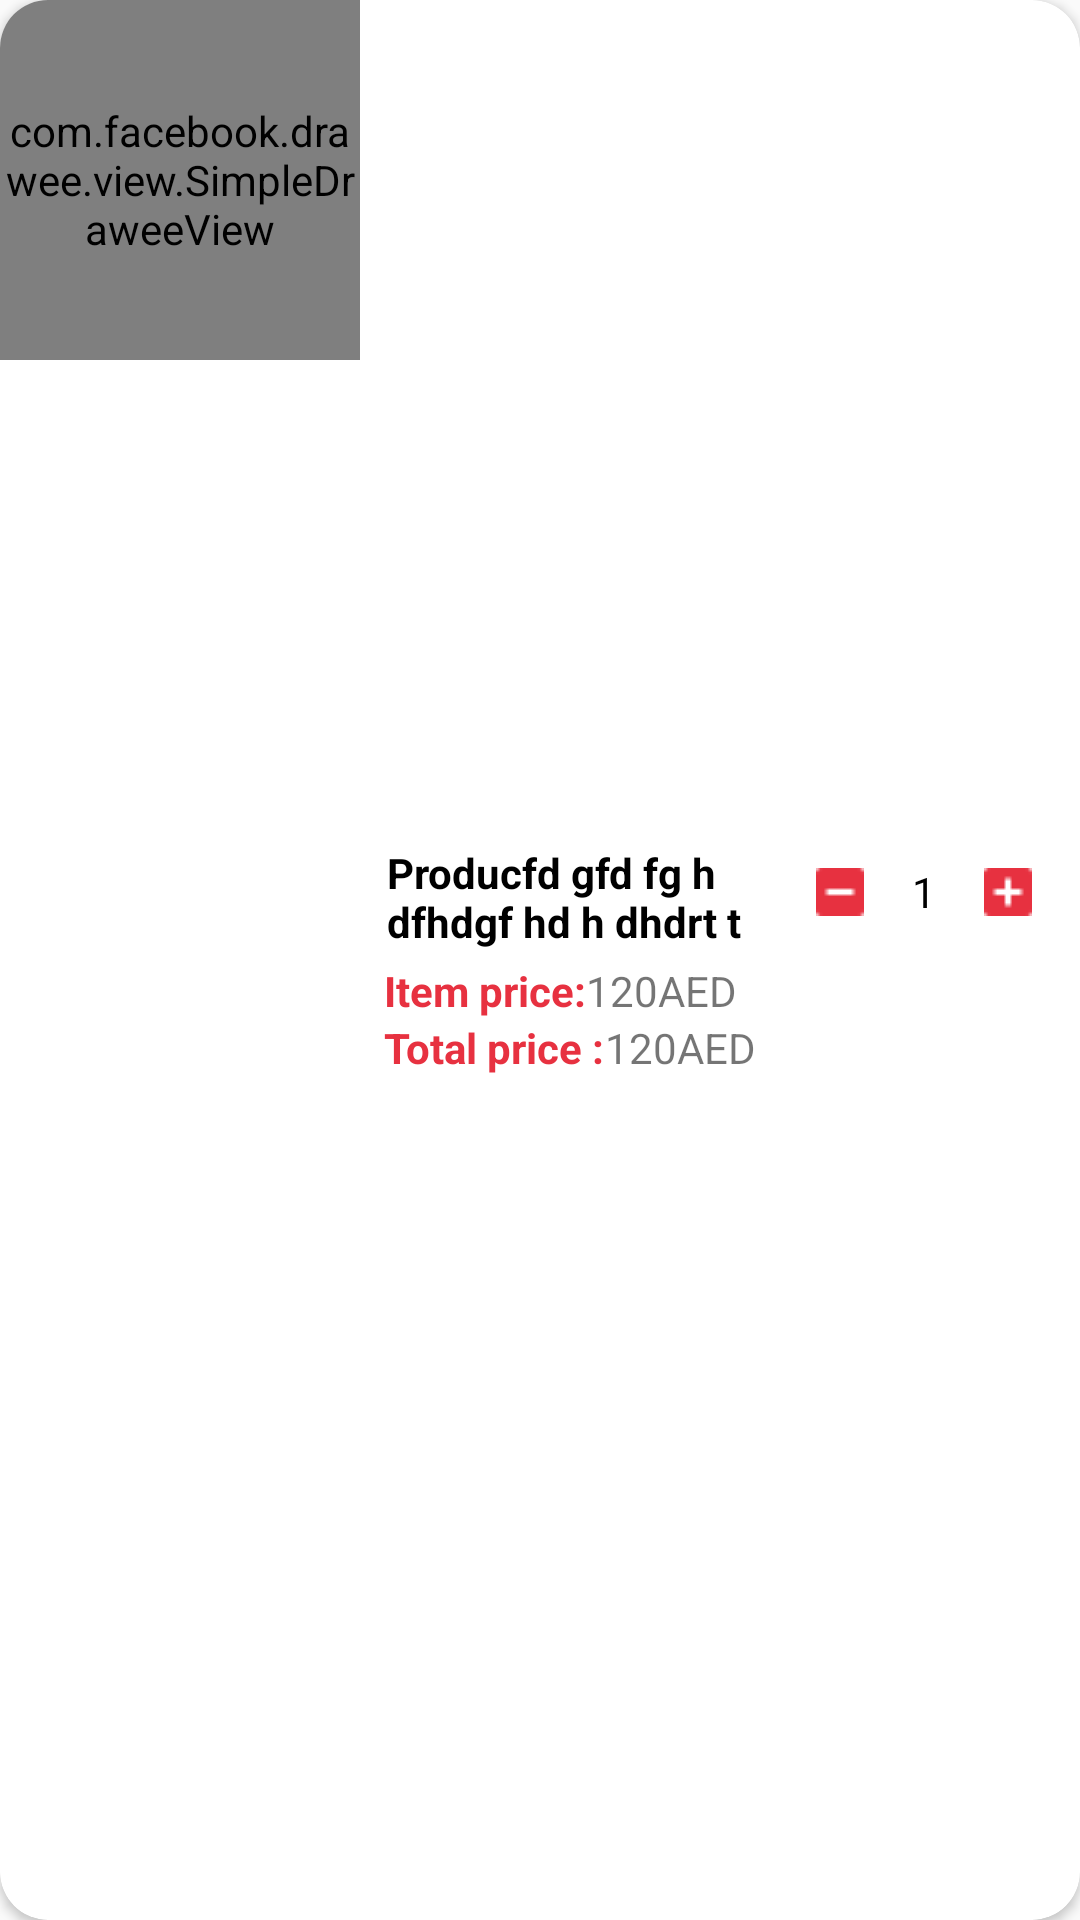

Named icons in this screenshot (1080 x 1920) and their bounding boxes, (x1, y1, x2, y2):
minus: (816, 868, 864, 916)
plus: (984, 868, 1032, 916)
